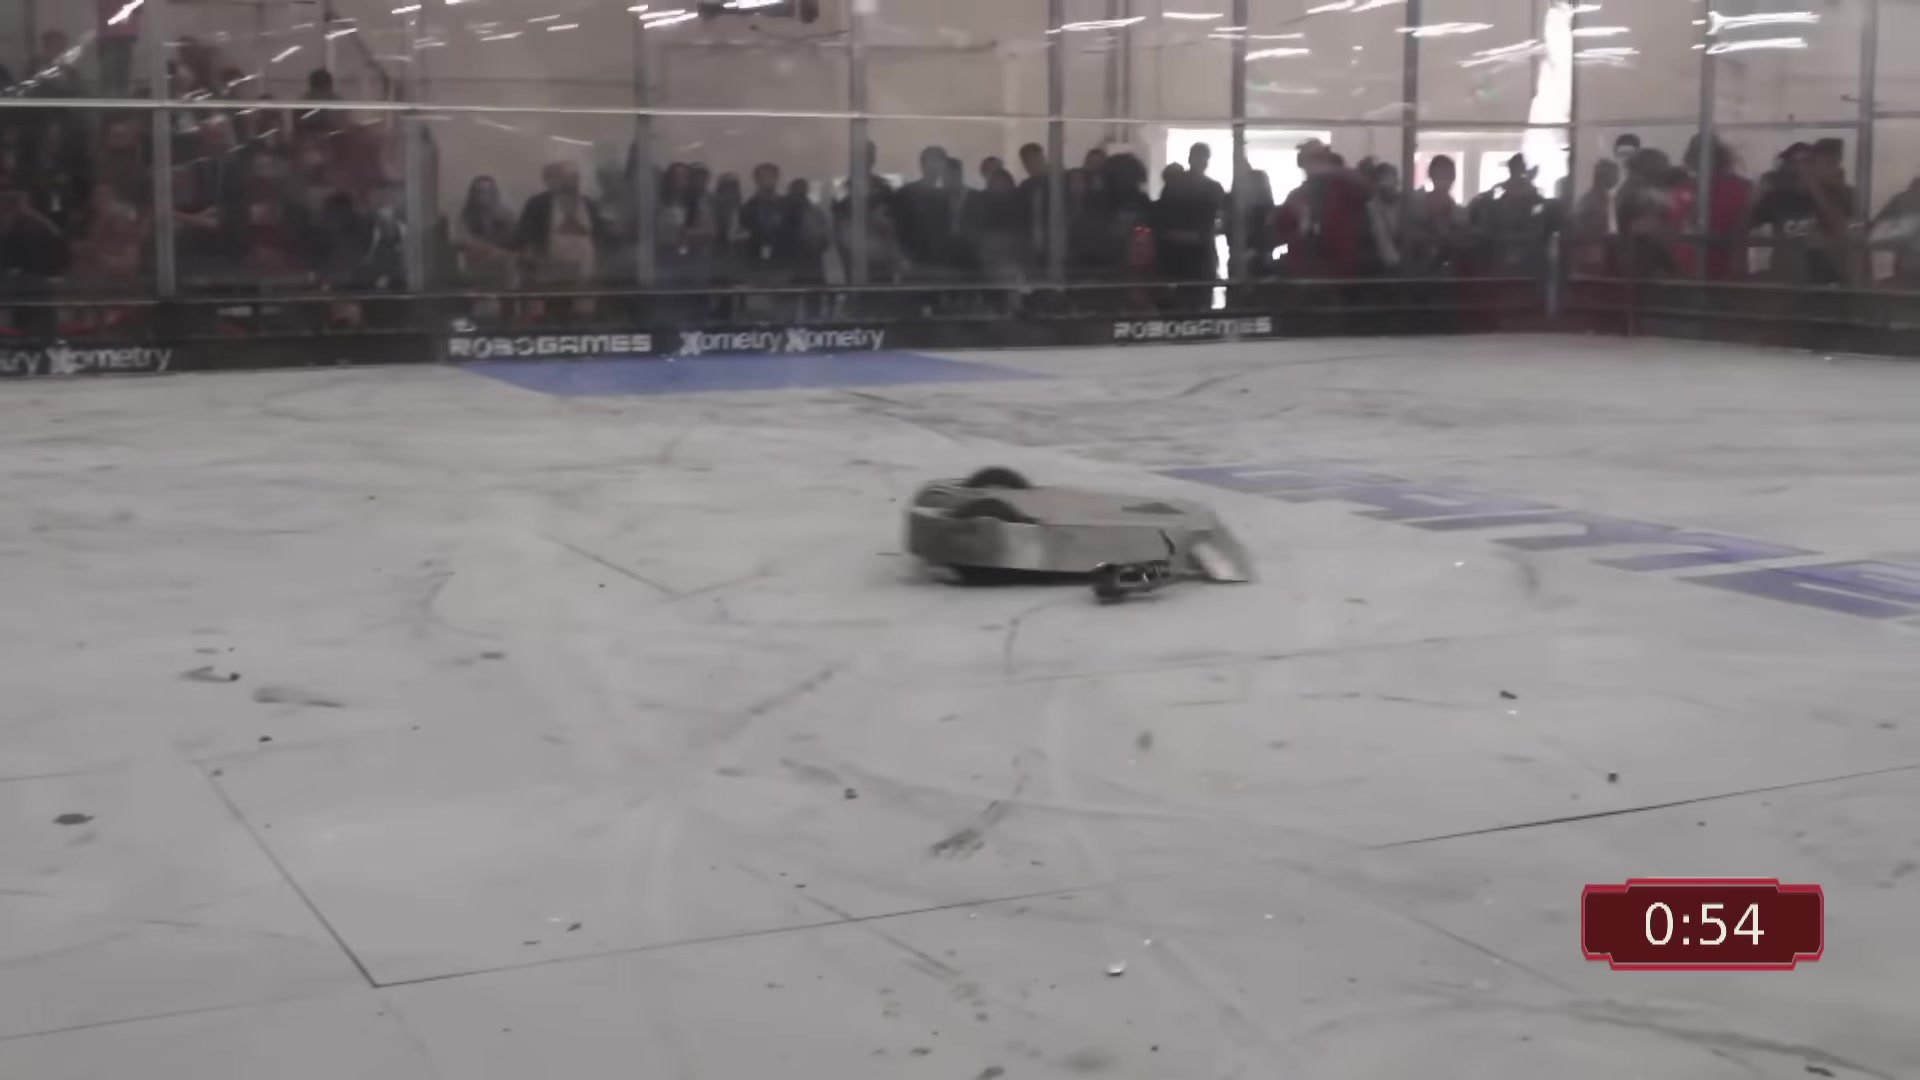combatbot: (907, 464, 1266, 605)
